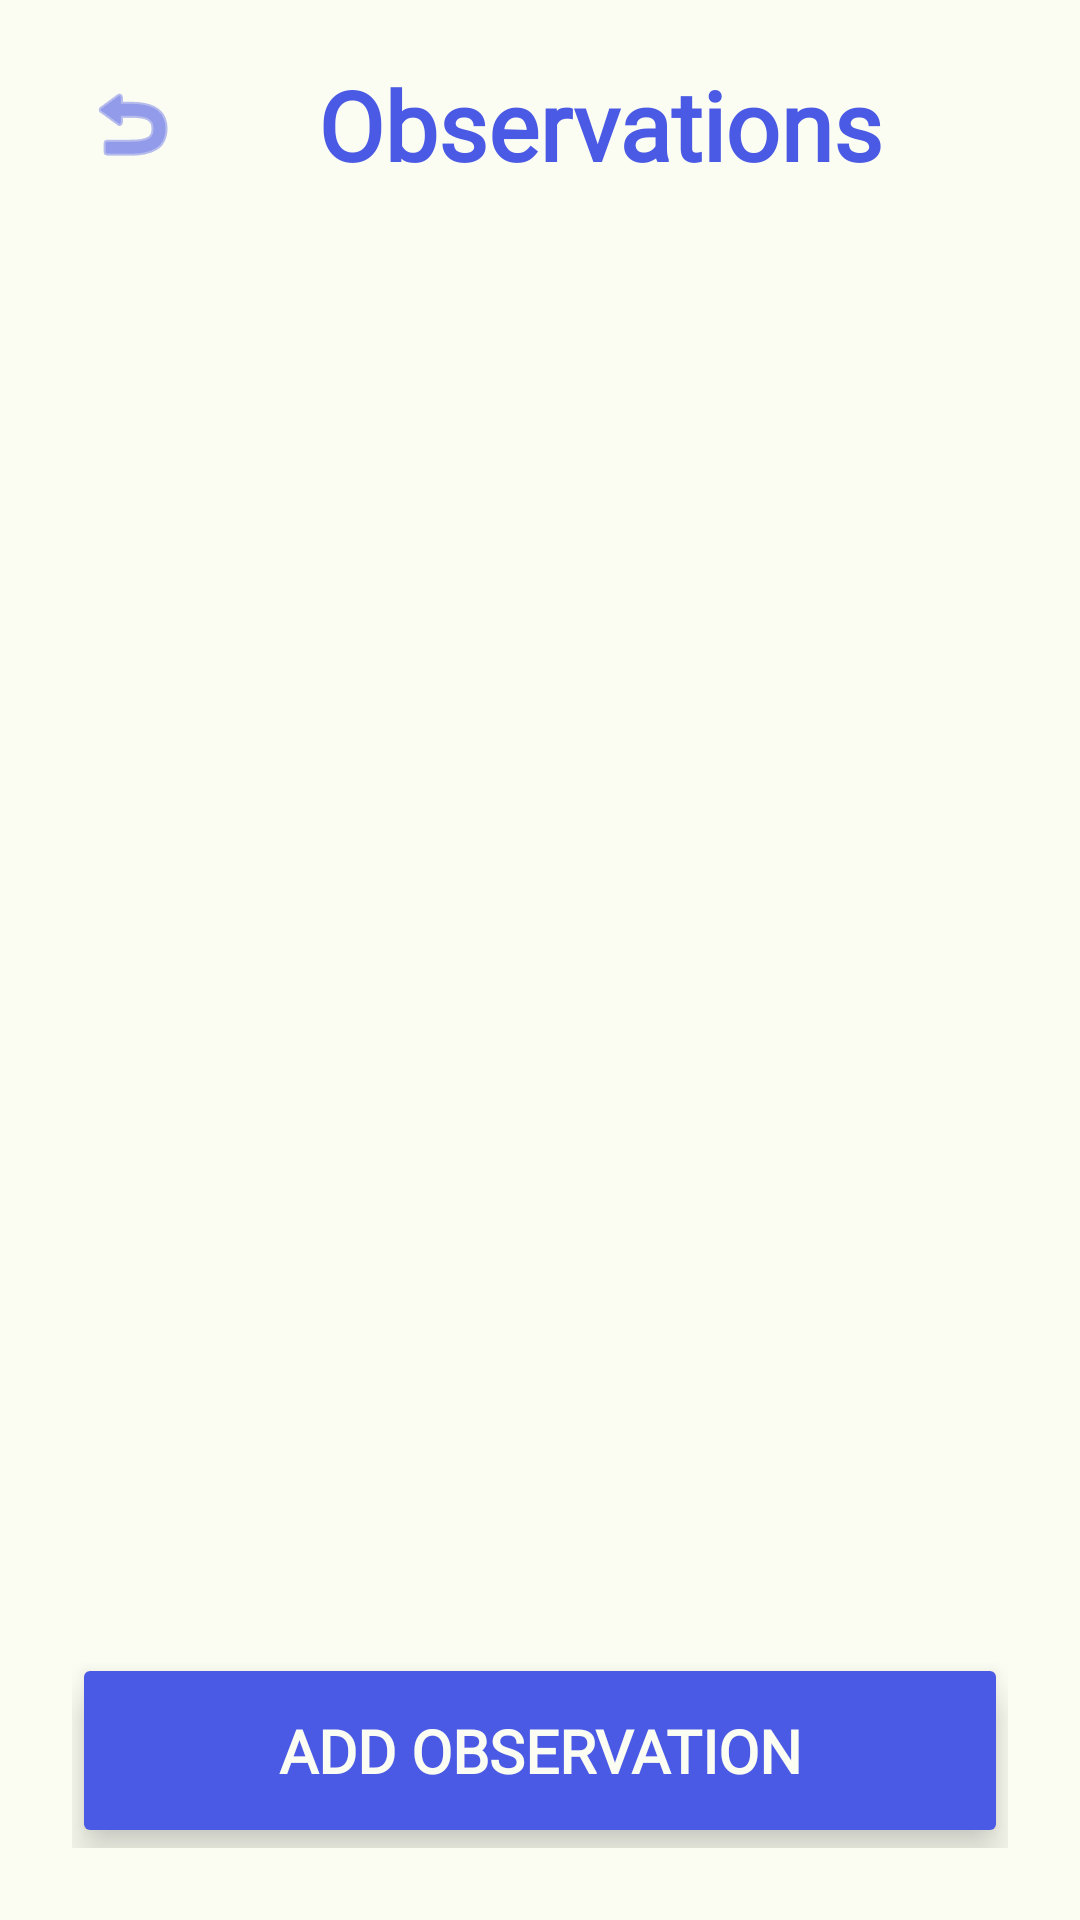

Icons on this 1080 x 1920 Android screen, each with its box as (x1, y1, x2, y2):
revert: (99, 93, 168, 156)
